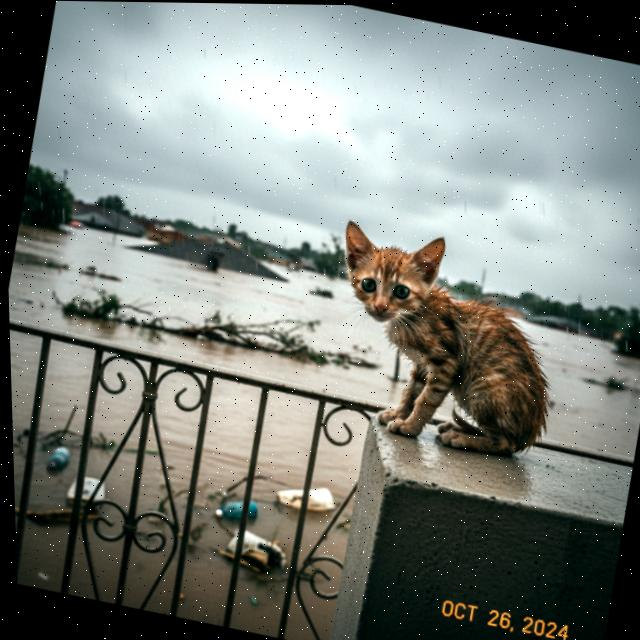cat: (287, 200, 593, 491)
